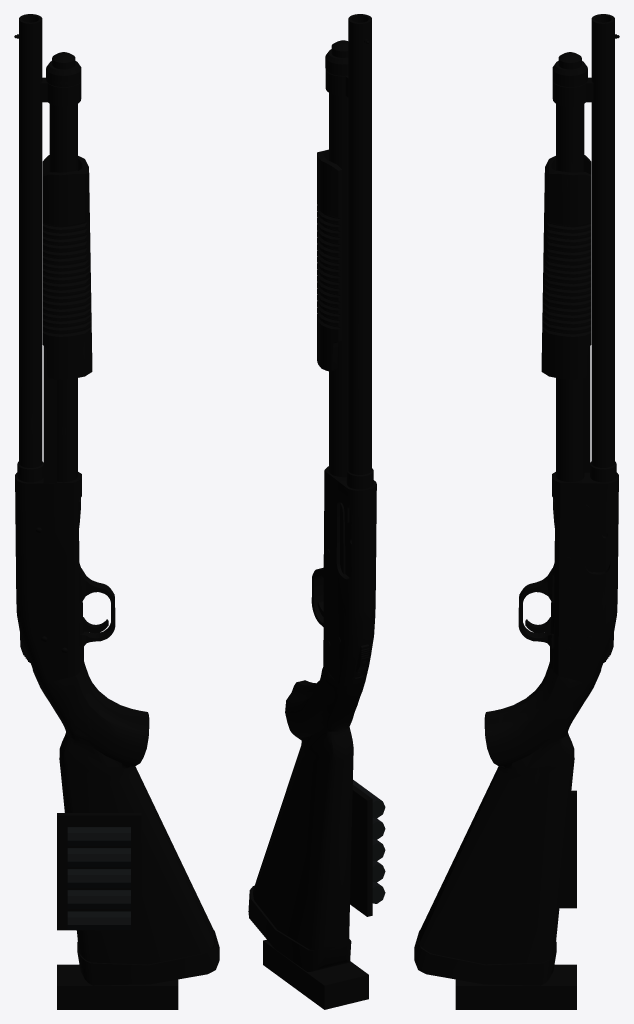
Rendered from M590__RecoilPad_Rubber__ShellHolder_Butt.fbx.
The picture shows the model from 3 angles, left to right: view 1: azimuth 90°, elevation 25°; view 2: azimuth 210°, elevation 25°; view 3: azimuth 270°, elevation 25°; orthographic projection.
Parts seen in each view (by area): view 1: asset_M590.001; view 2: asset_M590.001; view 3: asset_M590.001.
Part boxes in pixels (x1,y1,x2,y2): asset_M590.001: (14,14,219,1009); asset_M590.001: (248,14,385,1009); asset_M590.001: (414,14,619,1009).
Size of the model in its own units: 0.0447 by 0.615 by 0.1167.
